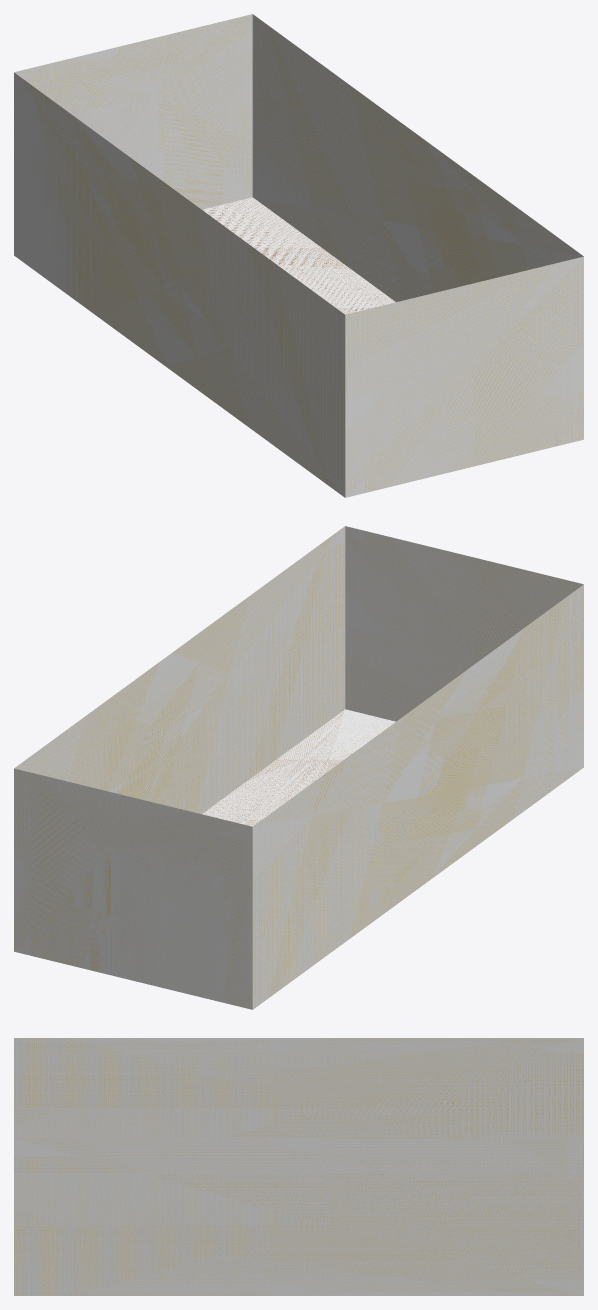
File: CUA001.obj
3 views of the same model, one above another, from view 1: azimuth 30°, elevation 25°; view 2: azimuth 150°, elevation 25°; view 3: azimuth 270°, elevation 25° (orthographic). The views are drawn at different scales.
Visible parts, largest first — view 1: Mesh1 CUA001 Model; view 2: Mesh1 CUA001 Model; view 3: Mesh1 CUA001 Model.
Boxes of the visible parts, x1,y1,x2,y2 form: Mesh1 CUA001 Model: (14, 14, 583, 497); Mesh1 CUA001 Model: (14, 526, 583, 1009); Mesh1 CUA001 Model: (14, 1038, 583, 1295).
Bounding box in the file's own units: 4.18 × 3.06 × 10.04.
4 materials, 1 textured.
